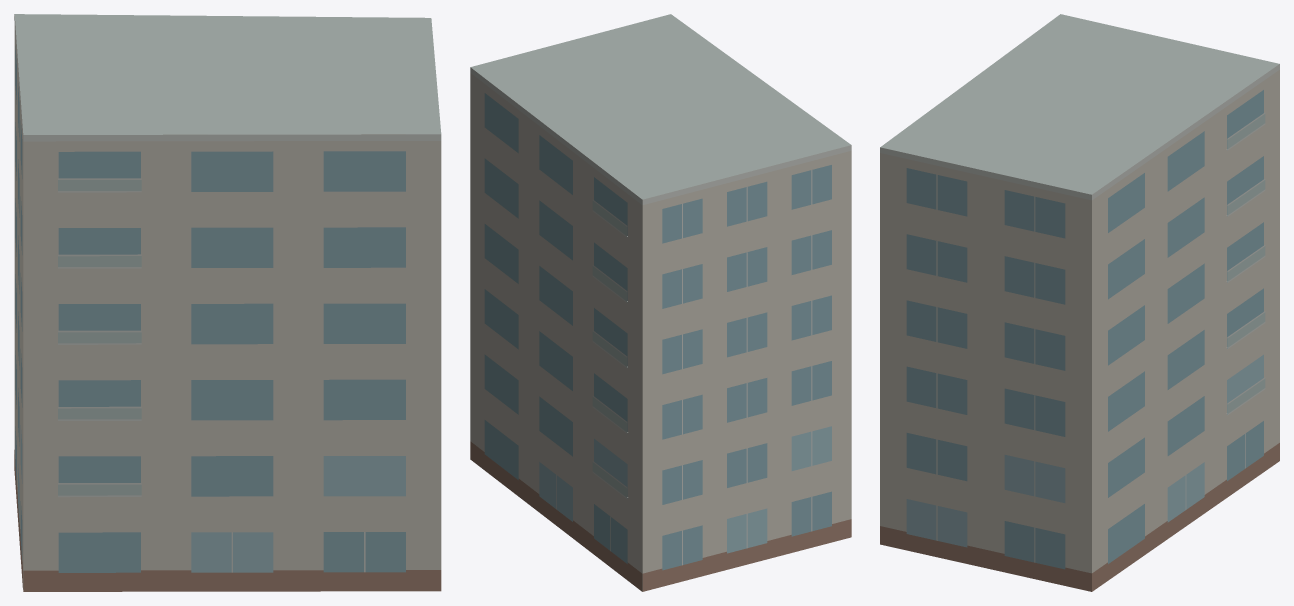
File: survey-upis-32954008.glb
3 renders of one model, left to right at view 1: azimuth 30°, elevation 25°; view 2: azimuth 150°, elevation 25°; view 3: azimuth 270°, elevation 25°, orthographic. The views are drawn at different scales.
Parts seen in each view (by area): view 1: survey-upis-32954008.tmp; view 2: survey-upis-32954008.tmp; view 3: survey-upis-32954008.tmp.
Part boxes in pixels (x1,y1,x2,y2): survey-upis-32954008.tmp: (14, 14, 441, 591); survey-upis-32954008.tmp: (470, 14, 851, 591); survey-upis-32954008.tmp: (880, 14, 1279, 591).
Bounding box in the file's own units: 16.7 × 17.1 × 15.61.
